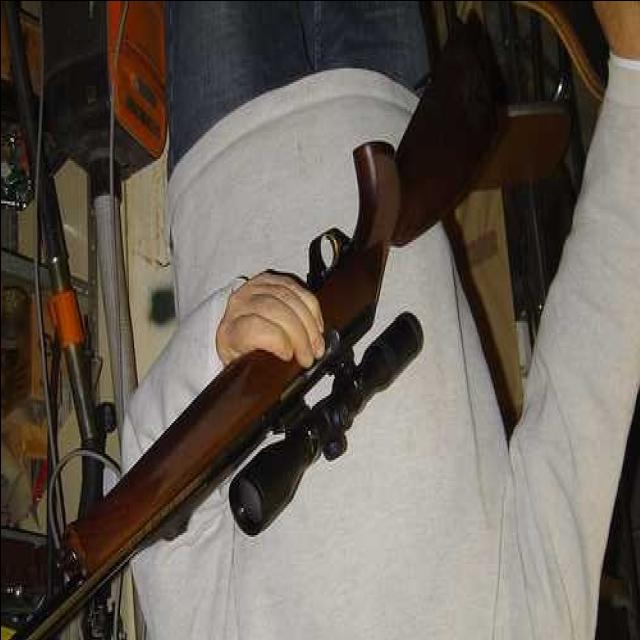heavyweapon: (1, 13, 509, 633)
